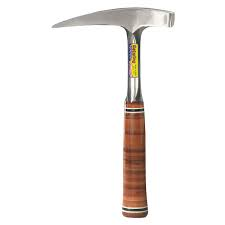hammer: (50, 6, 175, 219)
